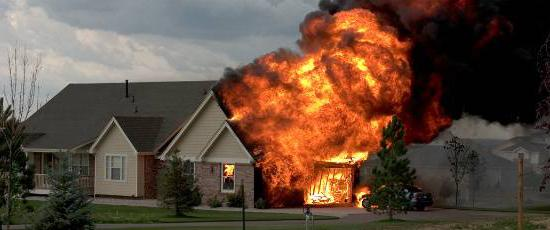fire: (212, 4, 420, 212)
